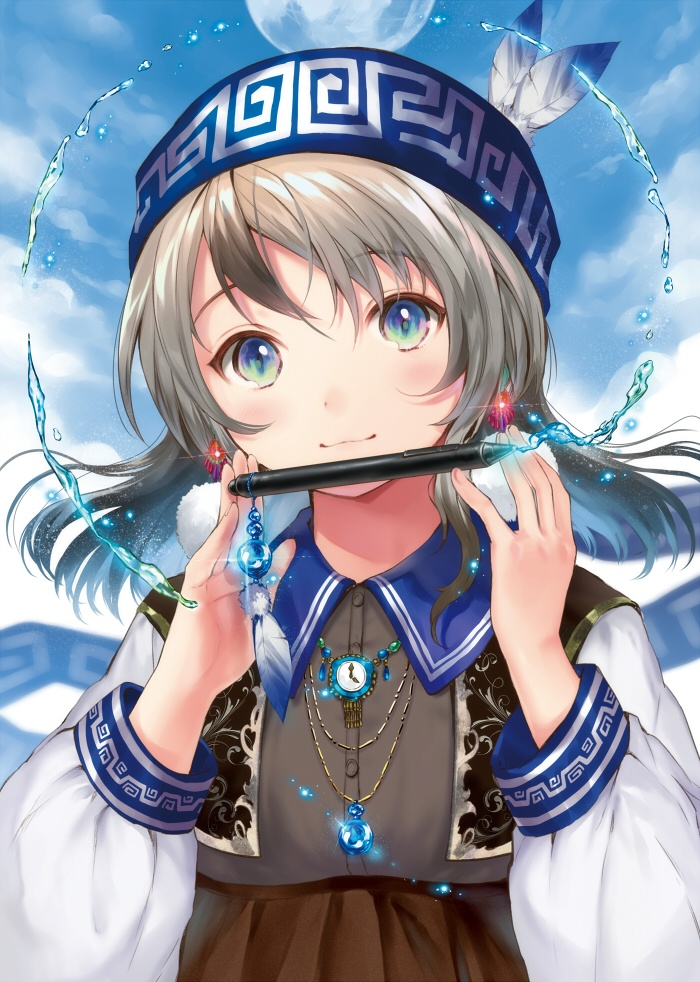纸片人正脸: (117, 87, 558, 510)
